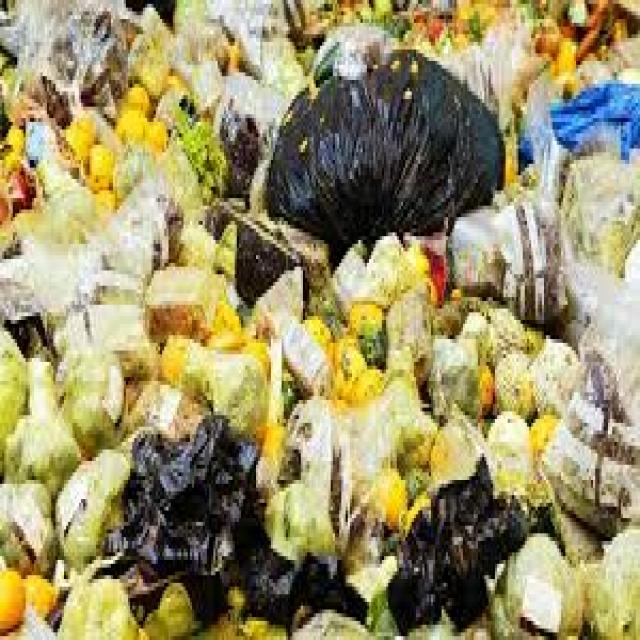food_waste: (16, 54, 605, 561)
